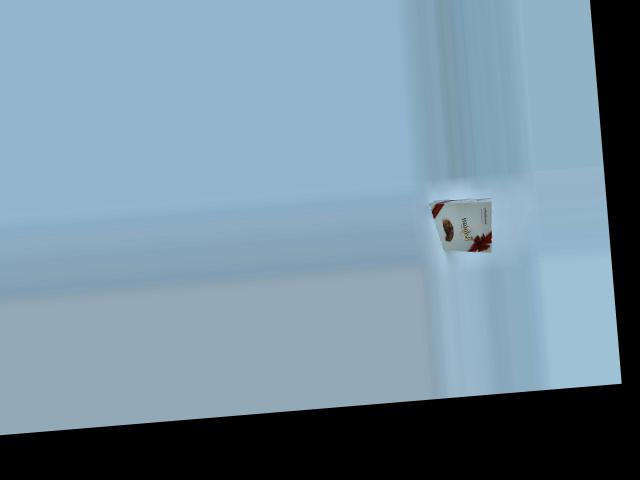chocolate: (425, 184, 494, 258)
